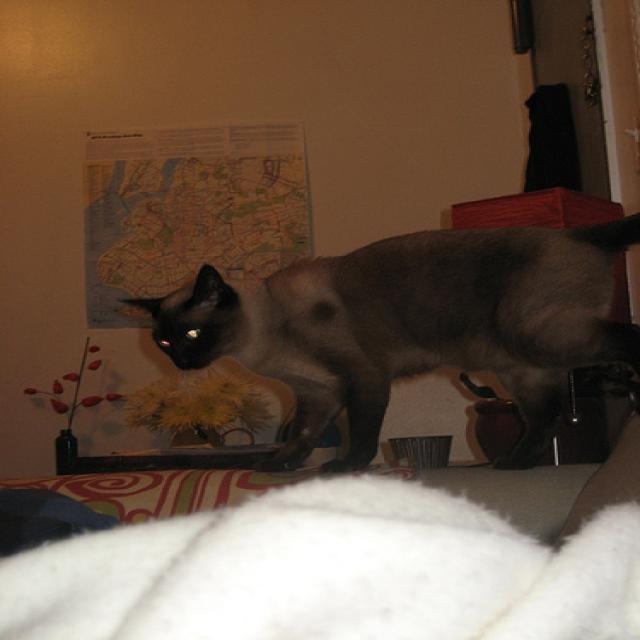Cat: (120, 220, 640, 479)
